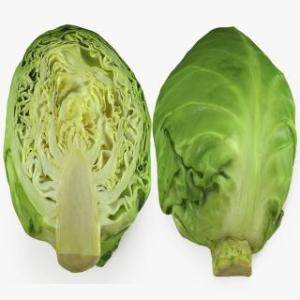cabbage: (151, 16, 297, 284), (3, 18, 153, 276)
